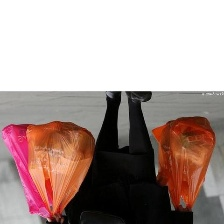plastic_bag: (149, 113, 218, 218), (28, 120, 98, 220), (0, 123, 61, 222)
